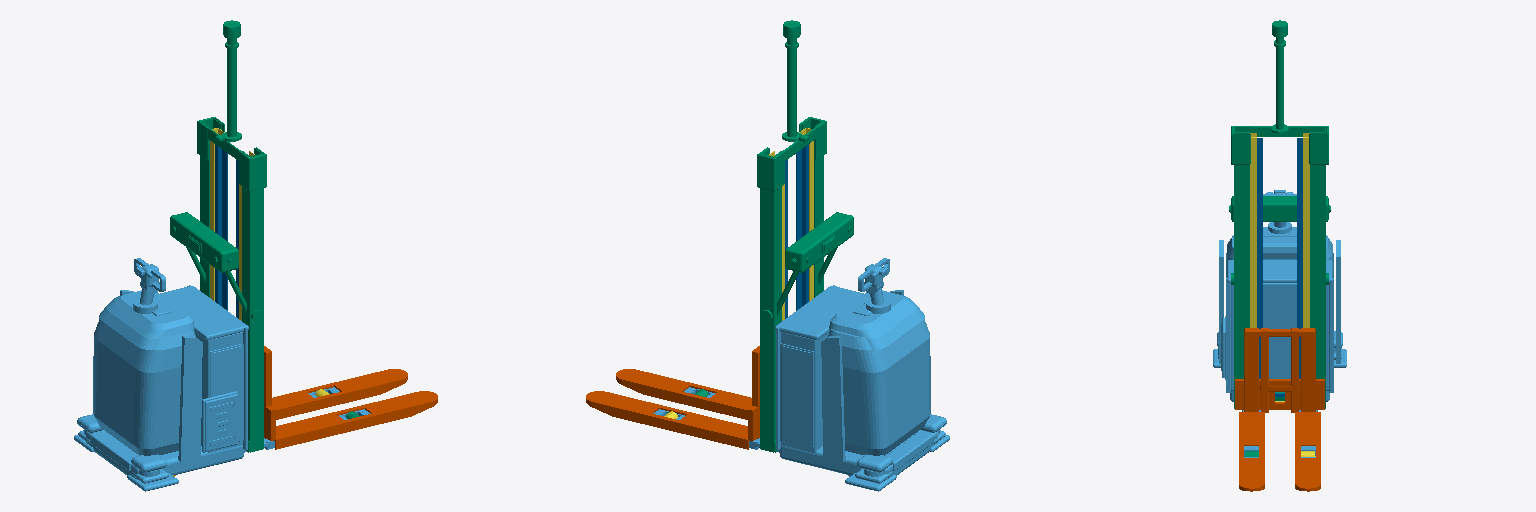
robot.urdf — toyota_sae160_tx_reference:
<?xml version="1.0"?>
<robot name="toyota_sae160_tx_reference">
<link name="base_footprint"></link>
<link name="base_link"><visual ><geometry ><mesh filename="../meshes/base_link.obj"/></geometry></visual><collision ><origin xyz="-1.299 0 0.56225" rpy="0 0 0"/><geometry ><box size="0.838 0.93 1.0755"/></geometry></collision><collision ><origin xyz="-0.285 -0.208 0.051" rpy="0 0 0"/><geometry ><box size="0.81 0.154 0.068"/></geometry></collision><collision ><origin xyz="-0.285 0.208 0.051" rpy="0 0 0"/><geometry ><box size="0.81 0.154 0.068"/></geometry></collision><collision ><origin xyz="-1.4405 0 1.2395" rpy="0 0 0"/><geometry ><box size="0.1692 0.361 0.291"/></geometry></collision><collision ><origin xyz="-1.38305 -0.0442 1.0928" rpy="0 0 0"/><geometry ><box size="0.1151 0.3636 0.0266"/></geometry></collision></link>
<link name="mast_outer"><visual ><geometry ><mesh filename="../meshes/mast_outer.obj"/></geometry></visual><collision ><origin xyz="-0.8 -0.265 1.111" rpy="0 0 0"/><geometry ><box size="0.1 0.11 2.102"/></geometry></collision><collision ><origin xyz="-0.8 0.265 1.111" rpy="0 0 0"/><geometry ><box size="0.1 0.11 2.102"/></geometry></collision><collision ><origin xyz="-0.855 0 0.1" rpy="0 0 0"/><geometry ><box size="0.0142 0.64 0.08"/></geometry></collision><collision ><origin xyz="-0.855 0 2.122" rpy="0 0 0"/><geometry ><box size="0.0142 0.64 0.08"/></geometry></collision><collision ><origin xyz="-0.8 0 2.5655" rpy="0 0 0"/><geometry ><box size="0.11 0.11 0.807"/></geometry></collision><collision ><origin xyz="-0.8 0 2.169" rpy="0 0 0"/><geometry ><box size="0.1262 0.1262 0.0172"/></geometry></collision><collision ><origin xyz="-0.8 0 2.95" rpy="0 0 0"/><geometry ><box size="0.1122 0.1122 0.0122"/></geometry></collision><collision ><origin xyz="-1.0117 0 1.463" rpy="0 0 0"/><geometry ><box size="0.1496 0.7102 0.146"/></geometry></collision><collision ><origin xyz="-0.915 -0.267 1.204" rpy="0 -0.434367276655 0"/><geometry ><box size="0.036 0.036 0.427719534275"/></geometry></collision><collision ><origin xyz="-0.915 0.267 1.204" rpy="0 -0.434367276655 0"/><geometry ><box size="0.036 0.036 0.427719534275"/></geometry></collision><collision ><origin xyz="-0.89 0 2.177" rpy="0 0 0"/><geometry ><box size="0.0502 0.0502 0.03"/></geometry></collision><collision ><origin xyz="-0.8 -0.328 1.025" rpy="0 0 0"/><geometry ><box size="0.0822 0.0172 0.0822"/></geometry></collision><collision ><origin xyz="-0.8 0.328 1.025" rpy="0 0 0"/><geometry ><box size="0.0822 0.0172 0.0822"/></geometry></collision><collision ><origin xyz="-0.8 -0.27 2.044" rpy="0 0 0"/><geometry ><box size="0.137 0.1352 0.235"/></geometry></collision><collision ><origin xyz="-0.8 0.27 2.044" rpy="0 0 0"/><geometry ><box size="0.137 0.1352 0.235"/></geometry></collision></link>
<link name="mast_stage1"><visual ><geometry ><mesh filename="../meshes/mast_stage1.obj"/></geometry></visual><collision ><origin xyz="-0.8 -0.205 1.111" rpy="0 0 0"/><geometry ><box size="0.08 0.09 2.022"/></geometry></collision><collision ><origin xyz="-0.8 0.205 1.111" rpy="0 0 0"/><geometry ><box size="0.08 0.09 2.022"/></geometry></collision><collision ><origin xyz="-0.708 0 0.125" rpy="0 0 0"/><geometry ><box size="0.01 0.5 0.03"/></geometry></collision><collision ><origin xyz="-0.734 -0.199 0.125" rpy="0 0 0"/><geometry ><box size="0.062 0.018 0.02"/></geometry></collision><collision ><origin xyz="-0.734 0.199 0.125" rpy="0 0 0"/><geometry ><box size="0.062 0.018 0.02"/></geometry></collision></link>
<link name="mast_inner"><visual ><geometry ><mesh filename="../meshes/mast_inner.obj"/></geometry></visual><collision ><origin xyz="-0.8 -0.15 1.111" rpy="0 0 0"/><geometry ><box size="0.07 0.07 1.942"/></geometry></collision><collision ><origin xyz="-0.8 0.15 1.111" rpy="0 0 0"/><geometry ><box size="0.07 0.07 1.942"/></geometry></collision><collision ><origin xyz="-0.728 0 0.175" rpy="0 0 0"/><geometry ><box size="0.01 0.3702 0.03"/></geometry></collision><collision ><origin xyz="-0.7465 -0.13 0.175" rpy="0 0 0"/><geometry ><box size="0.047 0.018 0.02"/></geometry></collision><collision ><origin xyz="-0.7465 0.13 0.175" rpy="0 0 0"/><geometry ><box size="0.047 0.018 0.02"/></geometry></collision></link>
<link name="carriage"><visual ><geometry ><mesh filename="../meshes/carriage.obj"/></geometry></visual><collision ><origin xyz="-0.025 0 0.303" rpy="0 0 0"/><geometry ><box size="0.05 0.62 0.626"/></geometry></collision><collision ><origin xyz="0.625 -0.195 -0.035" rpy="0 0 0"/><geometry ><box size="1.25 0.18 0.07"/></geometry></collision><collision ><origin xyz="0.625 0.195 -0.035" rpy="0 0 0"/><geometry ><box size="1.25 0.18 0.07"/></geometry></collision><collision ><origin xyz="-0.12 -0.12825 0.15" rpy="0 0 0"/><geometry ><box size="0.14 0.0625 0.06"/></geometry></collision><collision ><origin xyz="-0.12 -0.12825 0.3" rpy="0 0 0"/><geometry ><box size="0.14 0.0625 0.06"/></geometry></collision><collision ><origin xyz="-0.12 0.12825 0.15" rpy="0 0 0"/><geometry ><box size="0.14 0.0625 0.06"/></geometry></collision><collision ><origin xyz="-0.12 0.12825 0.3" rpy="0 0 0"/><geometry ><box size="0.14 0.0625 0.06"/></geometry></collision></link>
<link name="steer_link"><visual ><geometry ><mesh filename="../meshes/steer_link.obj"/></geometry></visual></link>
<link name="drive_wheel"><visual ><geometry ><mesh filename="../meshes/drive_wheel.obj"/></geometry></visual></link>
<link name="castor_right"><visual ><geometry ><mesh filename="../meshes/castor_right.obj"/></geometry></visual></link>
<link name="castor_left"><visual ><geometry ><mesh filename="../meshes/castor_left.obj"/></geometry></visual></link>
<link name="support_wheel_right"><visual ><geometry ><mesh filename="../meshes/support_wheel_right.obj"/></geometry></visual></link>
<link name="support_wheel_left"><visual ><geometry ><mesh filename="../meshes/support_wheel_left.obj"/></geometry></visual></link>
<link name="forks"></link>
<link name="fork_tips"></link>
<link name="nav_scanner"></link>
<link name="charge_plate"></link>
<joint name="base_link_joint" type="fixed"><parent link="base_footprint"/><child link="base_link"/><origin xyz="0 0 0" rpy="0 0 0"/></joint>
<joint name="mast_outer_joint" type="fixed"><parent link="base_link"/><child link="mast_outer"/><origin xyz="0 0 0" rpy="0 0 0"/></joint>
<joint name="mast_stage" type="prismatic"><parent link="mast_outer"/><child link="mast_stage1"/><origin xyz="0 0 0" rpy="0 0 0"/><axis xyz="0 0 1"/><limit lower="0" upper="1.5105" velocity="0.17" effort="20000"/><mimic joint="mast_lift" multiplier="0.5" offset="0"/></joint>
<joint name="mast_lift" type="prismatic"><parent link="mast_outer"/><child link="mast_inner"/><origin xyz="0 0 0" rpy="0 0 0"/><axis xyz="0 0 1"/><limit lower="0" upper="3.021" velocity="0.34" effort="20000"/></joint>
<joint name="free_lift" type="prismatic"><parent link="mast_inner"/><child link="carriage"/><origin xyz="-0.64 0 0.0875" rpy="0 0 0"/><axis xyz="0 0 1"/><limit lower="0" upper="1.592" velocity="0.34" effort="20000"/></joint>
<joint name="steer" type="revolute"><parent link="base_link"/><child link="steer_link"/><origin xyz="-1.452 0 0" rpy="0 0 0"/><axis xyz="0 0 1"/><limit lower="-1.5707963267948966" upper="1.5707963267948966" velocity="1.5" effort="500"/></joint>
<joint name="drive_wheel" type="continuous"><parent link="steer_link"/><child link="drive_wheel"/><origin xyz="0 0 0.115" rpy="0 0 0"/><axis xyz="0 1 0"/><limit effort="200" velocity="19.3237"/></joint>
<joint name="castor_right" type="continuous"><parent link="base_link"/><child link="castor_right"/><origin xyz="-1.452 -0.2925 0.0625" rpy="0 0 0"/><axis xyz="0 1 0"/><limit effort="200" velocity="35.5556"/></joint>
<joint name="castor_left" type="continuous"><parent link="base_link"/><child link="castor_left"/><origin xyz="-1.452 0.2925 0.0625" rpy="0 0 0"/><axis xyz="0 1 0"/><limit effort="200" velocity="35.5556"/></joint>
<joint name="support_wheel_right" type="continuous"><parent link="base_link"/><child link="support_wheel_right"/><origin xyz="0 -0.195 0.0425" rpy="0 0 0"/><axis xyz="0 1 0"/><limit effort="200" velocity="52.2876"/></joint>
<joint name="support_wheel_left" type="continuous"><parent link="base_link"/><child link="support_wheel_left"/><origin xyz="0 0.195 0.0425" rpy="0 0 0"/><axis xyz="0 1 0"/><limit effort="200" velocity="52.2876"/></joint>
<joint name="forks_joint" type="fixed"><parent link="carriage"/><child link="forks"/><origin xyz="0 0 0" rpy="0 0 0"/></joint>
<joint name="fork_tips_joint" type="fixed"><parent link="carriage"/><child link="fork_tips"/><origin xyz="1.25 0 0" rpy="0 0 0"/></joint>
<joint name="nav_scanner_joint" type="fixed"><parent link="mast_outer"/><child link="nav_scanner"/><origin xyz="-0.8 0 2.95" rpy="0 0 0"/></joint>
<joint name="charge_plate_joint" type="fixed"><parent link="base_link"/><child link="charge_plate"/><origin xyz="-1.104 -0.465 0.359" rpy="0 0 -1.57079632679"/></joint>
</robot>

--- Render facts (derived) ---
3 views of the same robot in one strip: view 1: azimuth 30°, elevation 25°; view 2: azimuth 150°, elevation 25°; view 3: azimuth 270°, elevation 25° (orthographic).
Model toyota_sae160_tx_reference with 16 links and 15 joints (1 revolute, 5 continuous, 3 prismatic, 6 fixed), rooted at base_footprint, posed every joint at zero.
Visible links, largest first — view 1: base_link, mast_outer, carriage, mast_inner, mast_stage1; view 2: base_link, mast_outer, carriage, mast_inner, mast_stage1; view 3: mast_outer, carriage, base_link, mast_stage1, mast_inner.
Boxes of the visible links, x1,y1,x2,y2 form: base_link: (74, 258, 370, 491); mast_outer: (170, 20, 266, 452); carriage: (264, 346, 437, 449); mast_inner: (215, 144, 238, 318); mast_stage1: (210, 128, 254, 320); base_link: (653, 258, 949, 491); mast_outer: (757, 20, 853, 452); carriage: (586, 346, 759, 449); mast_inner: (785, 144, 808, 318); mast_stage1: (769, 128, 813, 320); mast_outer: (1229, 20, 1330, 408); carriage: (1235, 328, 1324, 491); base_link: (1213, 190, 1346, 457); mast_stage1: (1250, 133, 1309, 401); mast_inner: (1257, 138, 1302, 396).
Size in the robot's own frame: 2.33 by 0.93 by 2.97 metres.
Meshes: 11 distinct files referenced, 11 mesh visuals loaded (11 OBJ).
